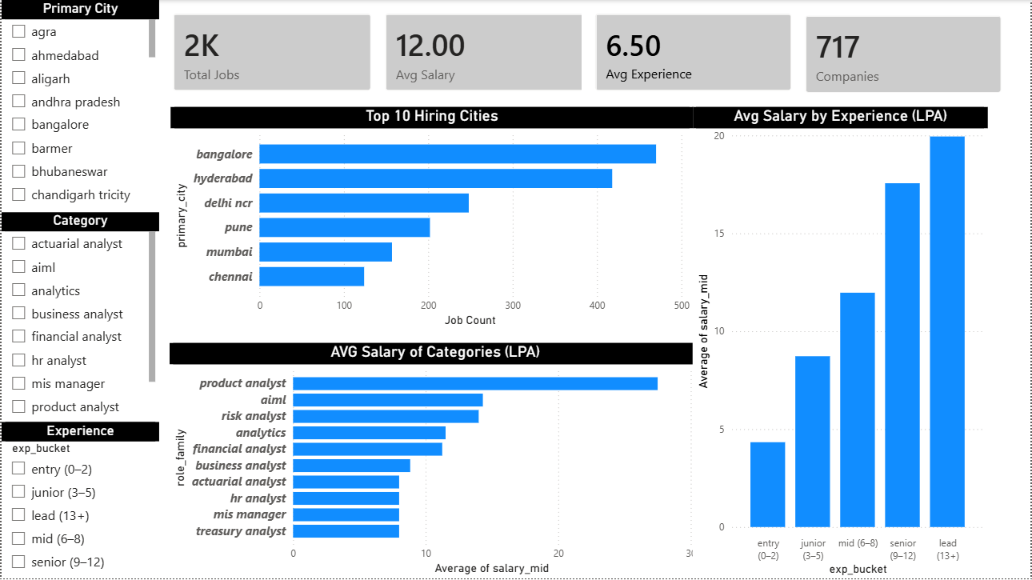

This screenshot's page, from the dashboard's own definition file:
{"tool":"powerbi","page":{"name":"Market Overview","canvas":[1280,720],"ordinal":0},"visuals":[{"type":"cardVisual","fields":{"Data":["jobs_master.Total Jobs"]},"box":[196.2,0,280,130],"z":0},{"type":"cardVisual","fields":{"Data":["jobs_master.Avg Salary"]},"box":[460,0,281.2,130],"z":1000},{"type":"cardVisual","fields":{"Data":["jobs_master.Avg Experience"]},"box":[721.2,0,278.8,130],"z":2000},{"type":"cardVisual","fields":{"Data":["jobs_master.Companies"]},"box":[982.5,2.5,278.8,130],"z":3000},{"type":"clusteredBarChart","title":"AVG Salary of Categories (LPA)","fields":{"Category":["jobs_master.role_family"],"Y":["Avg(jobs_master.salary_mid)"]},"box":[208.8,395,661.2,325],"z":4000},{"type":"clusteredColumnChart","title":"Avg Salary by Experience (LPA)","fields":{"Category":["jobs_master.exp_bucket"],"Y":["Avg(jobs_master.salary_mid)"]},"box":[860,132.5,367.5,587.5],"z":5000},{"type":"clusteredBarChart","title":"Top 10 Hiring Cities","fields":{"Category":["jobs_master.primary_city"],"Y":["jobs_master.Job Count"]},"box":[208.8,132.5,648.8,262.5],"z":6000},{"type":"slicer","title":"Category","fields":{"Values":["jobs_master.role_family"]},"box":[0,263.5,196.2,262.1],"z":7000},{"type":"slicer","title":"Experience","fields":{"Values":["jobs_master.exp_bucket"]},"box":[0,525,196.2,195],"z":8000},{"type":"slicer","title":"Primary City","fields":{"Values":["jobs_master.primary_city"]},"box":[0,0,196.2,263.8],"z":9000}]}

Visuals, with their boxes in screenshot pixels (x1, y1, x2, y2), scaled from the page's 1280x720 canvas onto the 1032x580 screenshot:
cardVisual - jobs_master.Total Jobs: 158 0 384 105
cardVisual - jobs_master.Avg Salary: 371 0 598 105
cardVisual - jobs_master.Avg Experience: 581 0 806 105
cardVisual - jobs_master.Companies: 792 2 1017 107
"AVG Salary of Categories (LPA)" clusteredBarChart: 168 318 701 579
"Avg Salary by Experience (LPA)" clusteredColumnChart: 693 107 990 579
"Top 10 Hiring Cities" clusteredBarChart: 168 107 691 318
"Category" slicer: 0 212 158 423
"Experience" slicer: 0 423 158 579
"Primary City" slicer: 0 0 158 213
